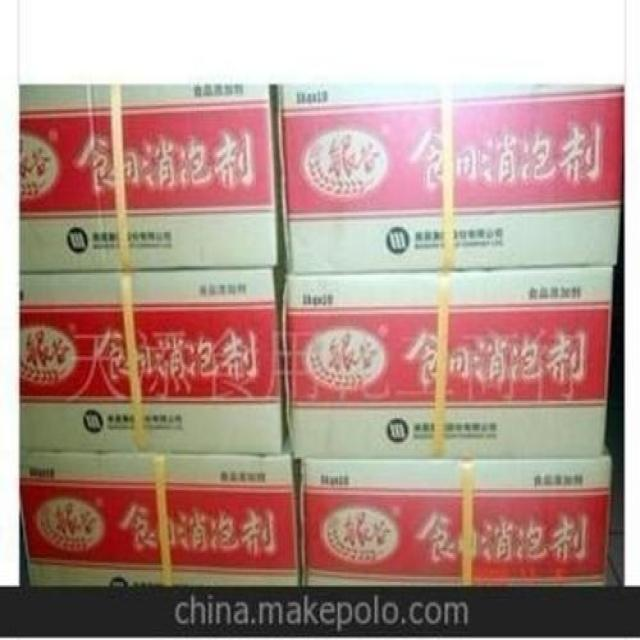box: (278, 85, 624, 272), (287, 264, 615, 456), (17, 264, 288, 456), (15, 83, 285, 270), (17, 430, 300, 585), (296, 452, 612, 585)
